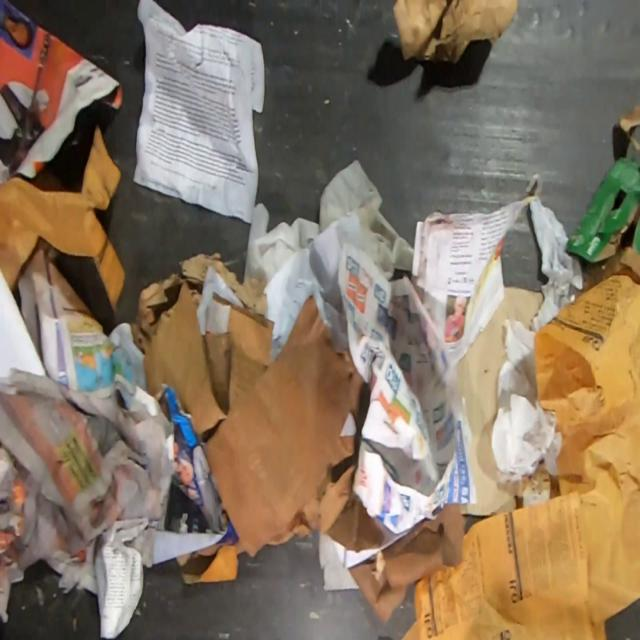cardboard: (199, 295, 386, 557), (143, 266, 276, 440), (457, 286, 545, 516), (349, 503, 468, 628), (564, 100, 640, 264), (391, 0, 522, 67)
